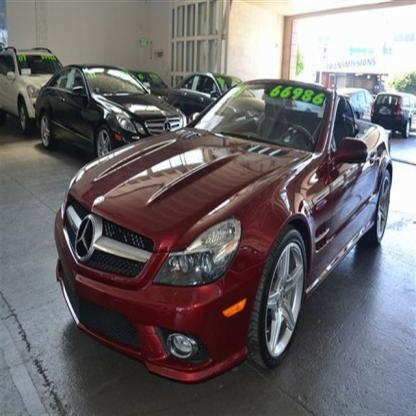Vehicle: (54, 81, 393, 385)
